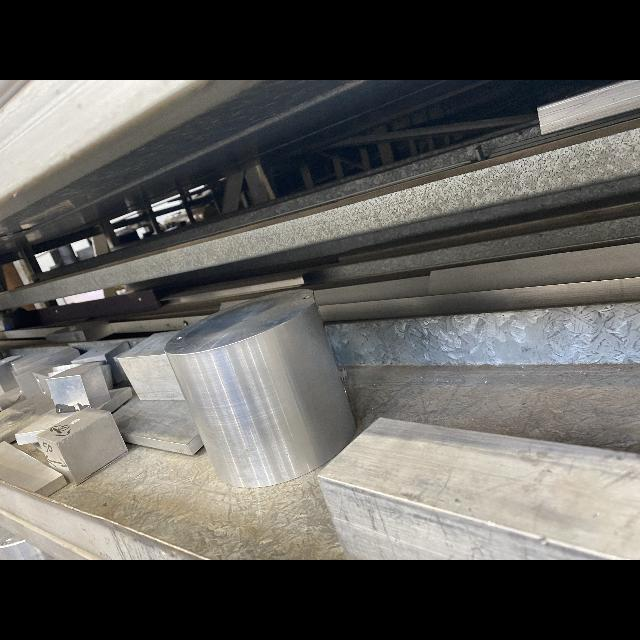Aluminium: (317, 416, 640, 560), (167, 290, 357, 488), (36, 407, 128, 487), (112, 397, 203, 454), (118, 331, 185, 400), (47, 341, 129, 386), (0, 442, 67, 497), (9, 349, 80, 398), (45, 362, 111, 407), (14, 408, 76, 445), (96, 388, 132, 413)
